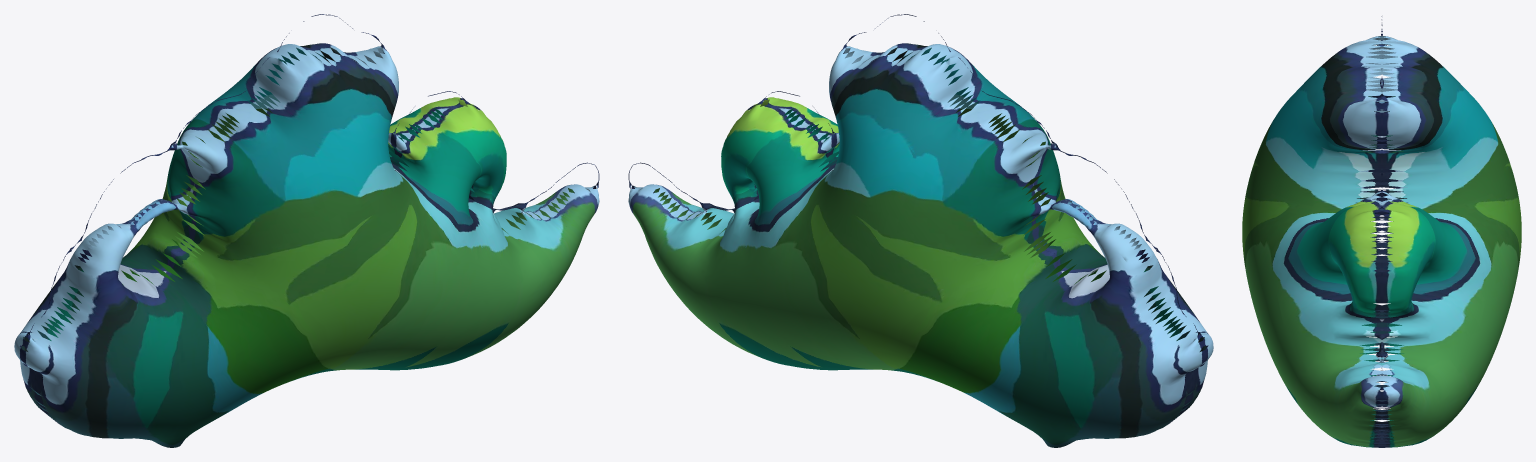
Rendered from snow_creeper.glb.
3 renders of one model, left to right at view 1: azimuth 30°, elevation 25°; view 2: azimuth 150°, elevation 25°; view 3: azimuth 270°, elevation 25°, orthographic.
Parts seen in each view (by area): view 1: snow_creeper; view 2: snow_creeper; view 3: snow_creeper.
Part boxes in pixels (<box>): snow_creeper: <box>14,14,599,447</box>; snow_creeper: <box>628,14,1213,447</box>; snow_creeper: <box>1242,16,1521,447</box>.
Bounding box in the file's own units: 0.9904 × 0.6049 × 0.42.
Materials: 1 (1 with a texture image).
